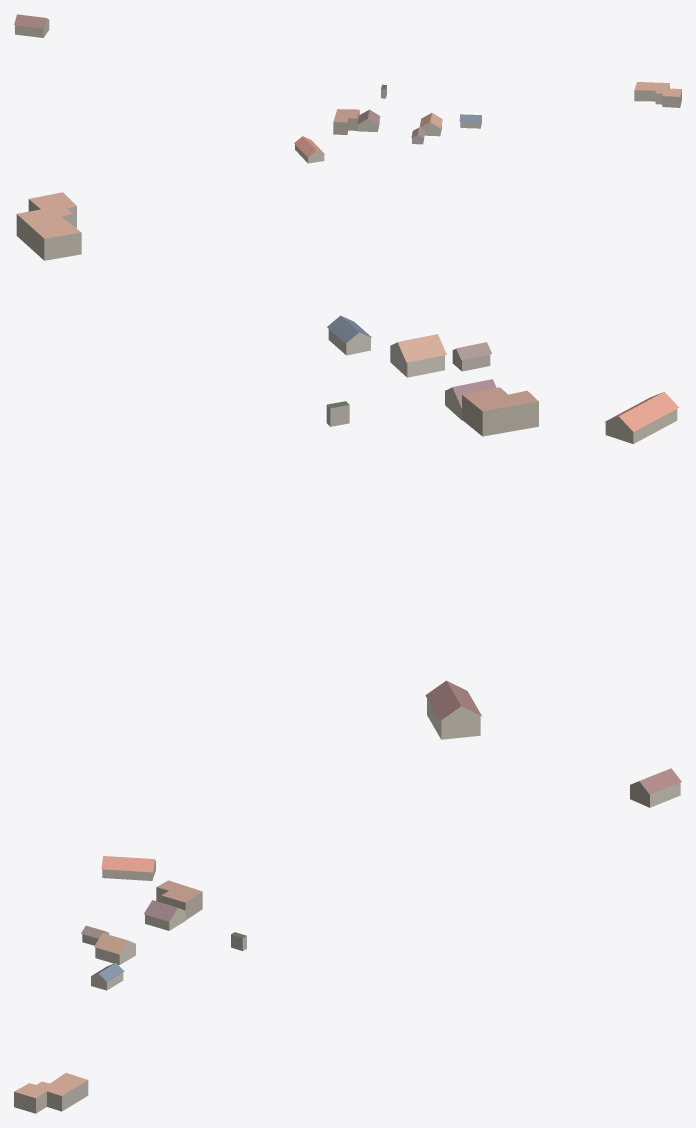
3 renders of one model, top to bottom at view 1: azimuth 30°, elevation 25°; view 2: azimuth 150°, elevation 25°; view 3: azimuth 270°, elevation 25°, orthographic. The views are drawn at different scales.
Visible parts, largest first — view 1: tuile; view 2: tuile; view 3: tuile.
Part boxes in pixels (x1,y1,x2,y2): tuile: (14, 14, 681, 163); tuile: (16, 192, 678, 739); tuile: (14, 768, 681, 1113).
Bounding box in the file's own units: 254 × 15.71 × 232.
